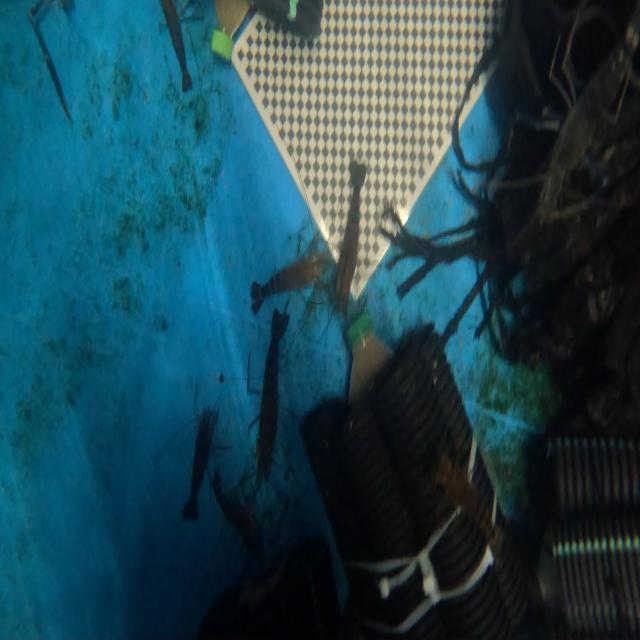prawn: (256, 311, 287, 481), (335, 160, 366, 310), (251, 254, 331, 312), (182, 408, 217, 520)
